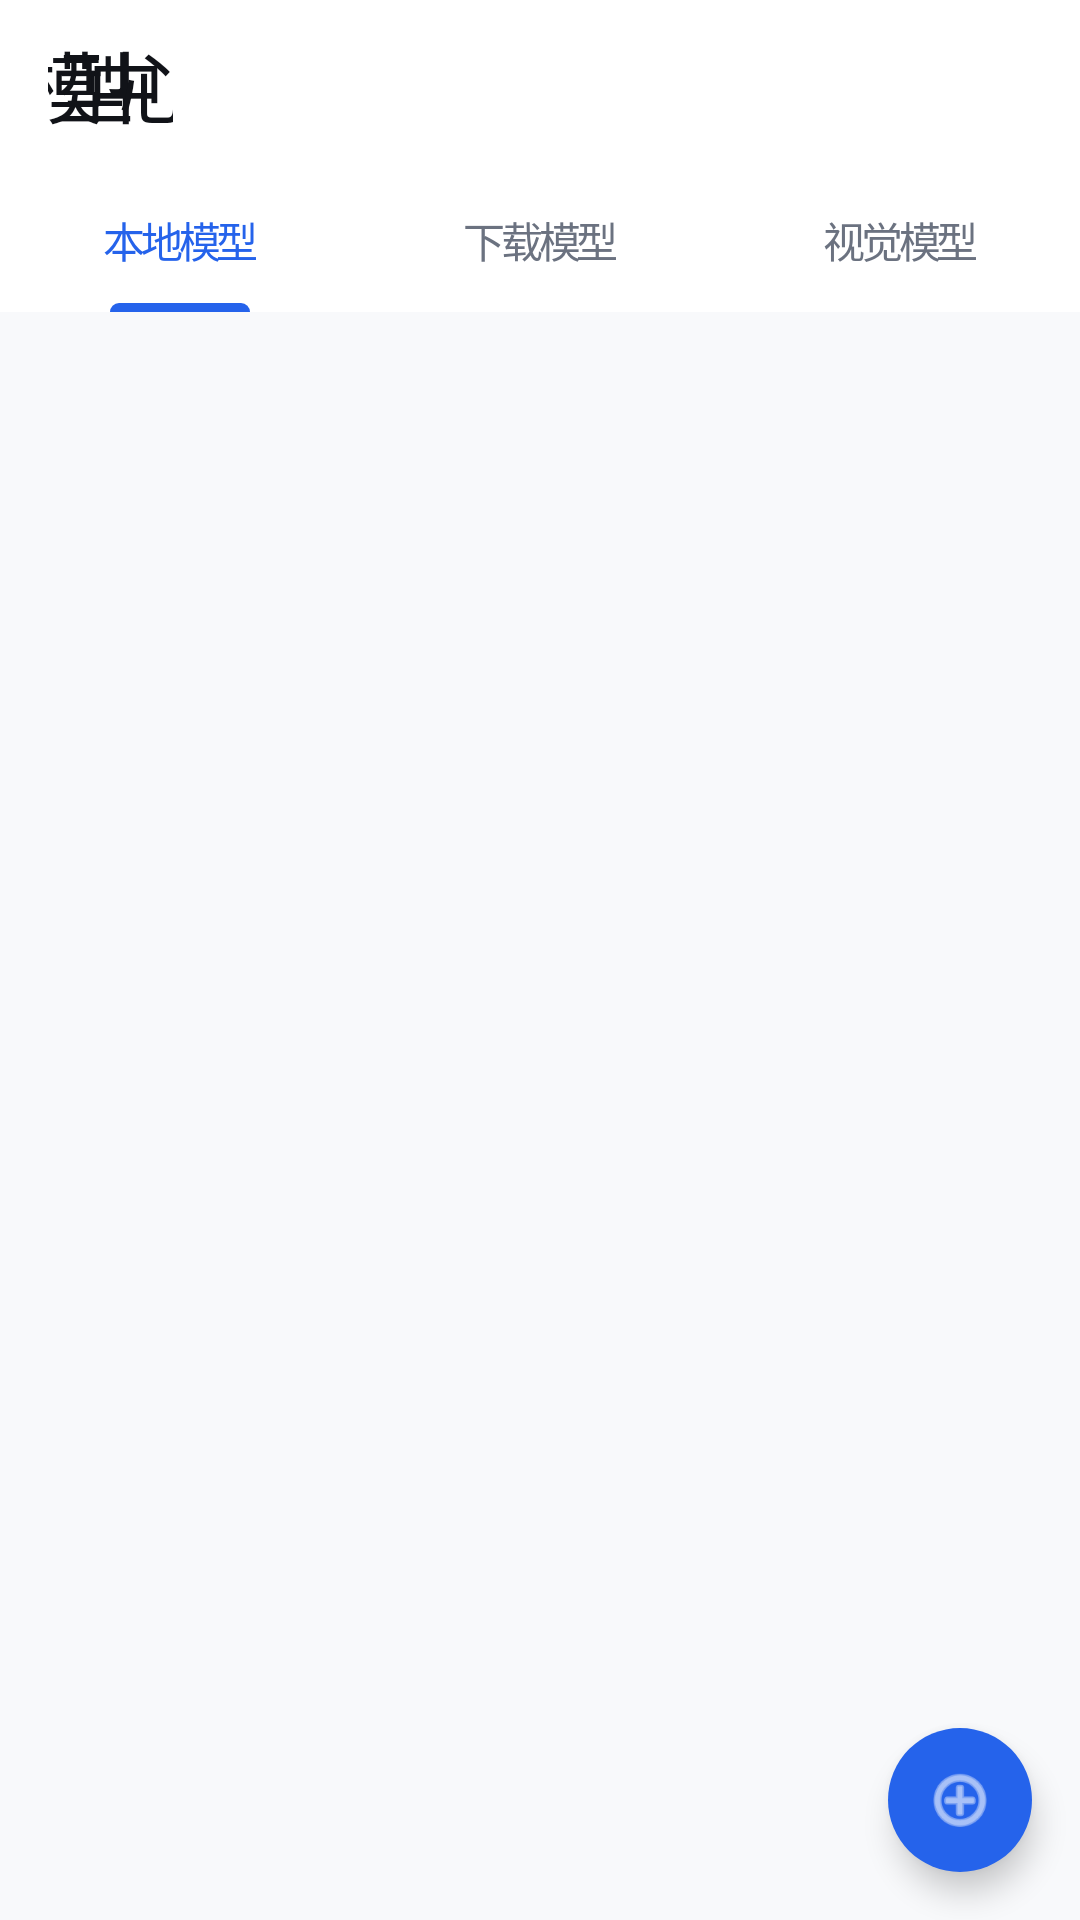

Named icons in this screenshot (1080px×1920px) and their centers, point (x, y):
导入模型: point (960, 1800)
